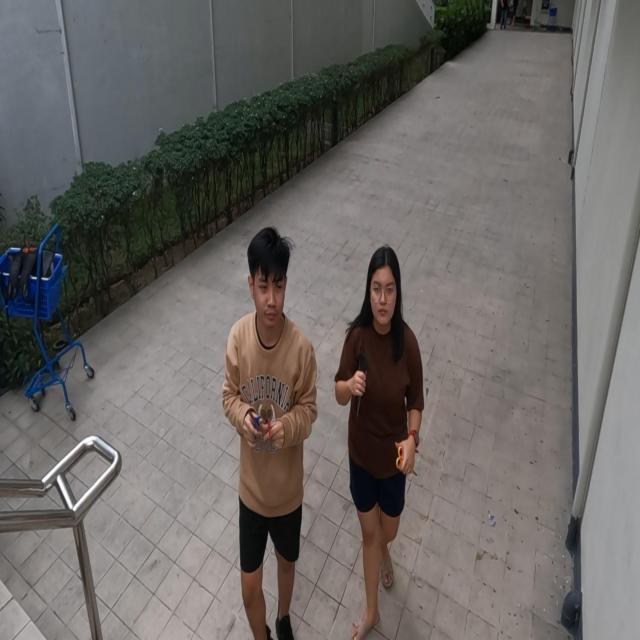scissor: (356, 350, 367, 417), (396, 446, 418, 478), (247, 406, 263, 442), (264, 408, 273, 442)
